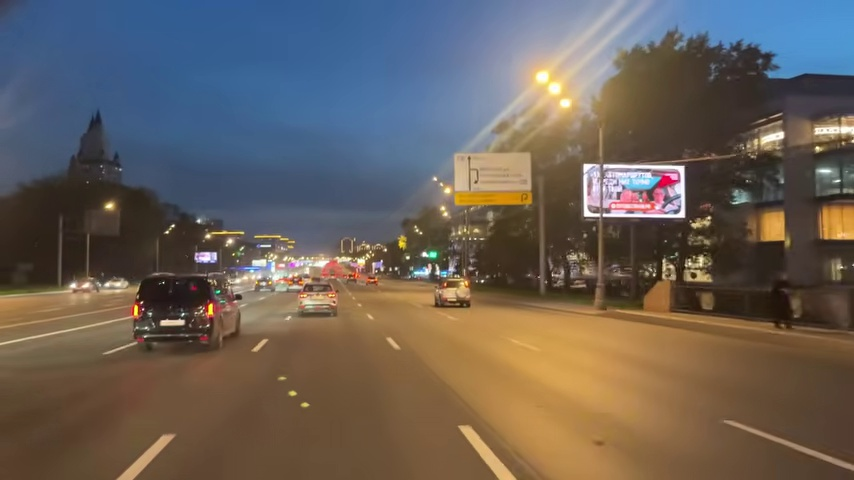acesa: (533, 67, 565, 95), (101, 199, 119, 215)
